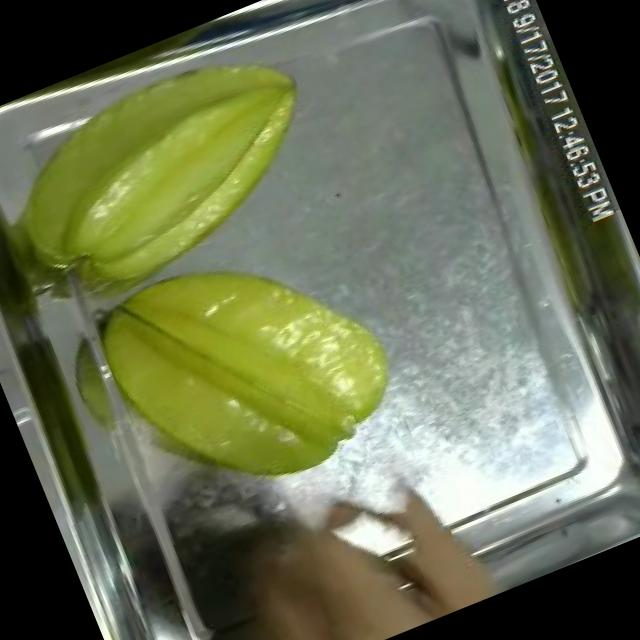fruit: (69, 195, 426, 538), (0, 8, 358, 329)
